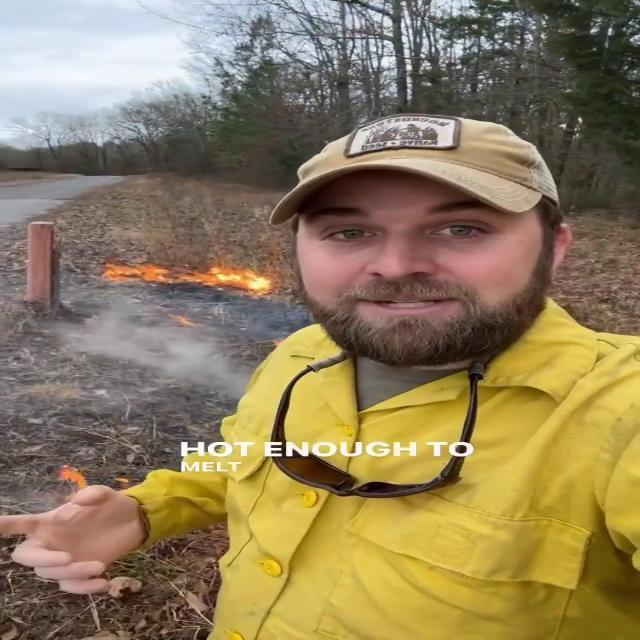Fire: (96, 258, 284, 298)
Smoke: (34, 281, 248, 413), (57, 302, 231, 399)
